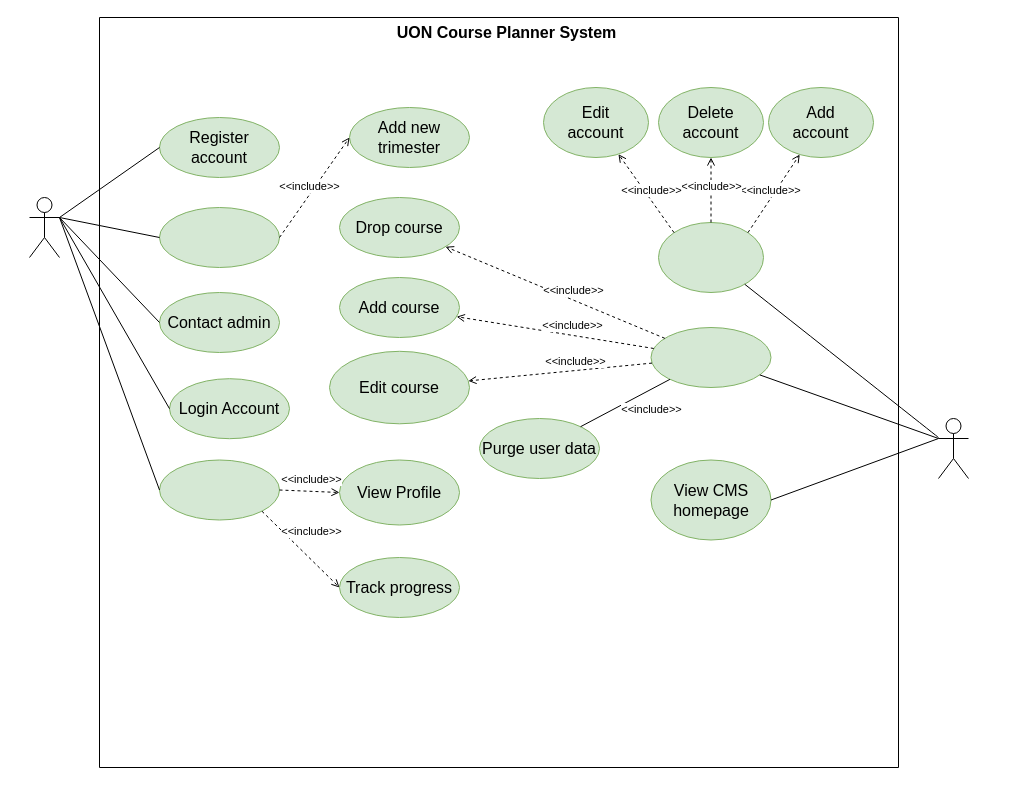
Image size: 1012x785. Some labels were removed from this diagram. Here are the shapes that lost their labels. From the top down, the centre of each, then its label:
At [44,227]: "Student".
At [219,237]: "Plan course".
At [711,257]: "Manage account".
At [710,357]: "Manage course".
At [953,448]: "Admin Staff".
At [219,489]: "View home page".
